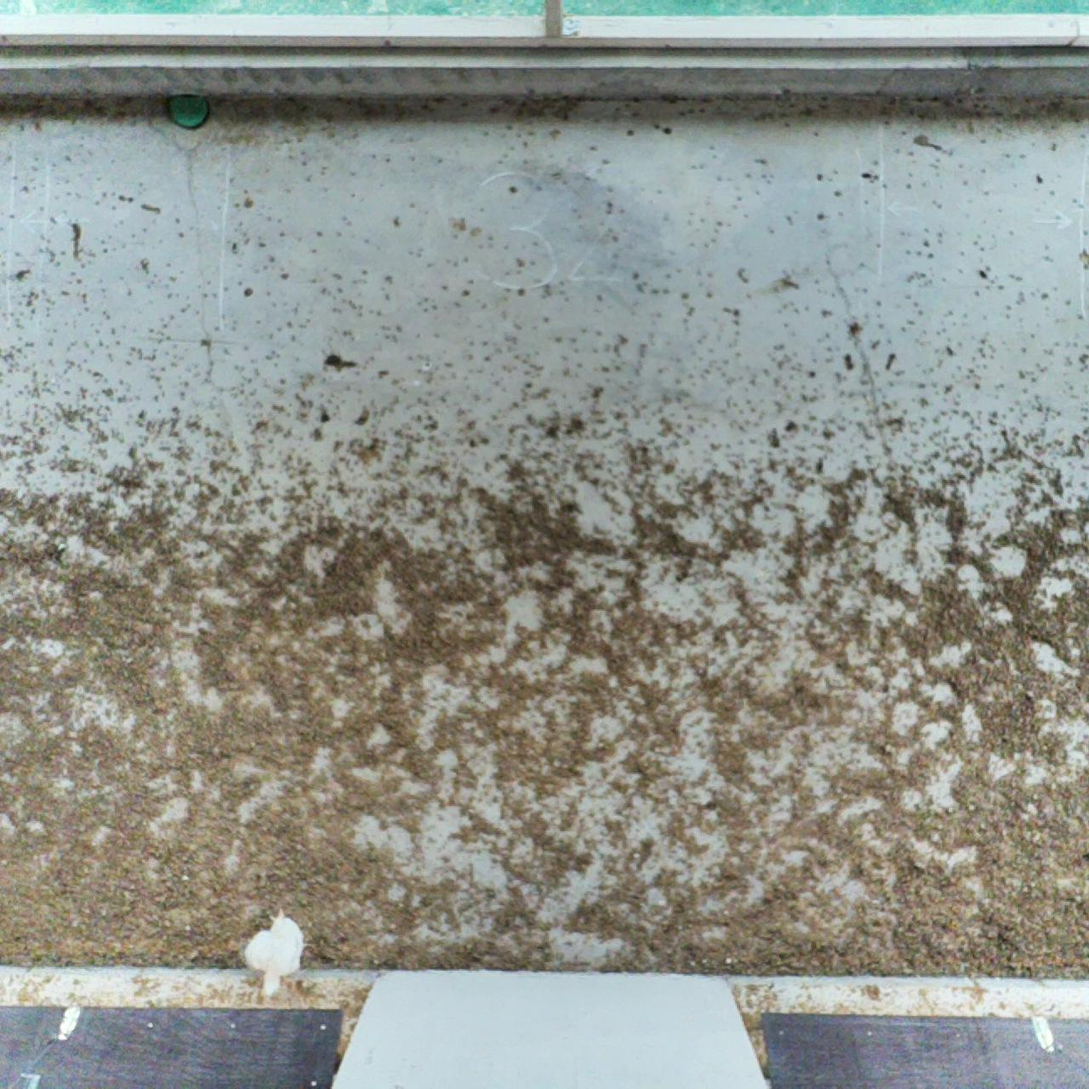chicken: (241, 904, 309, 998)
